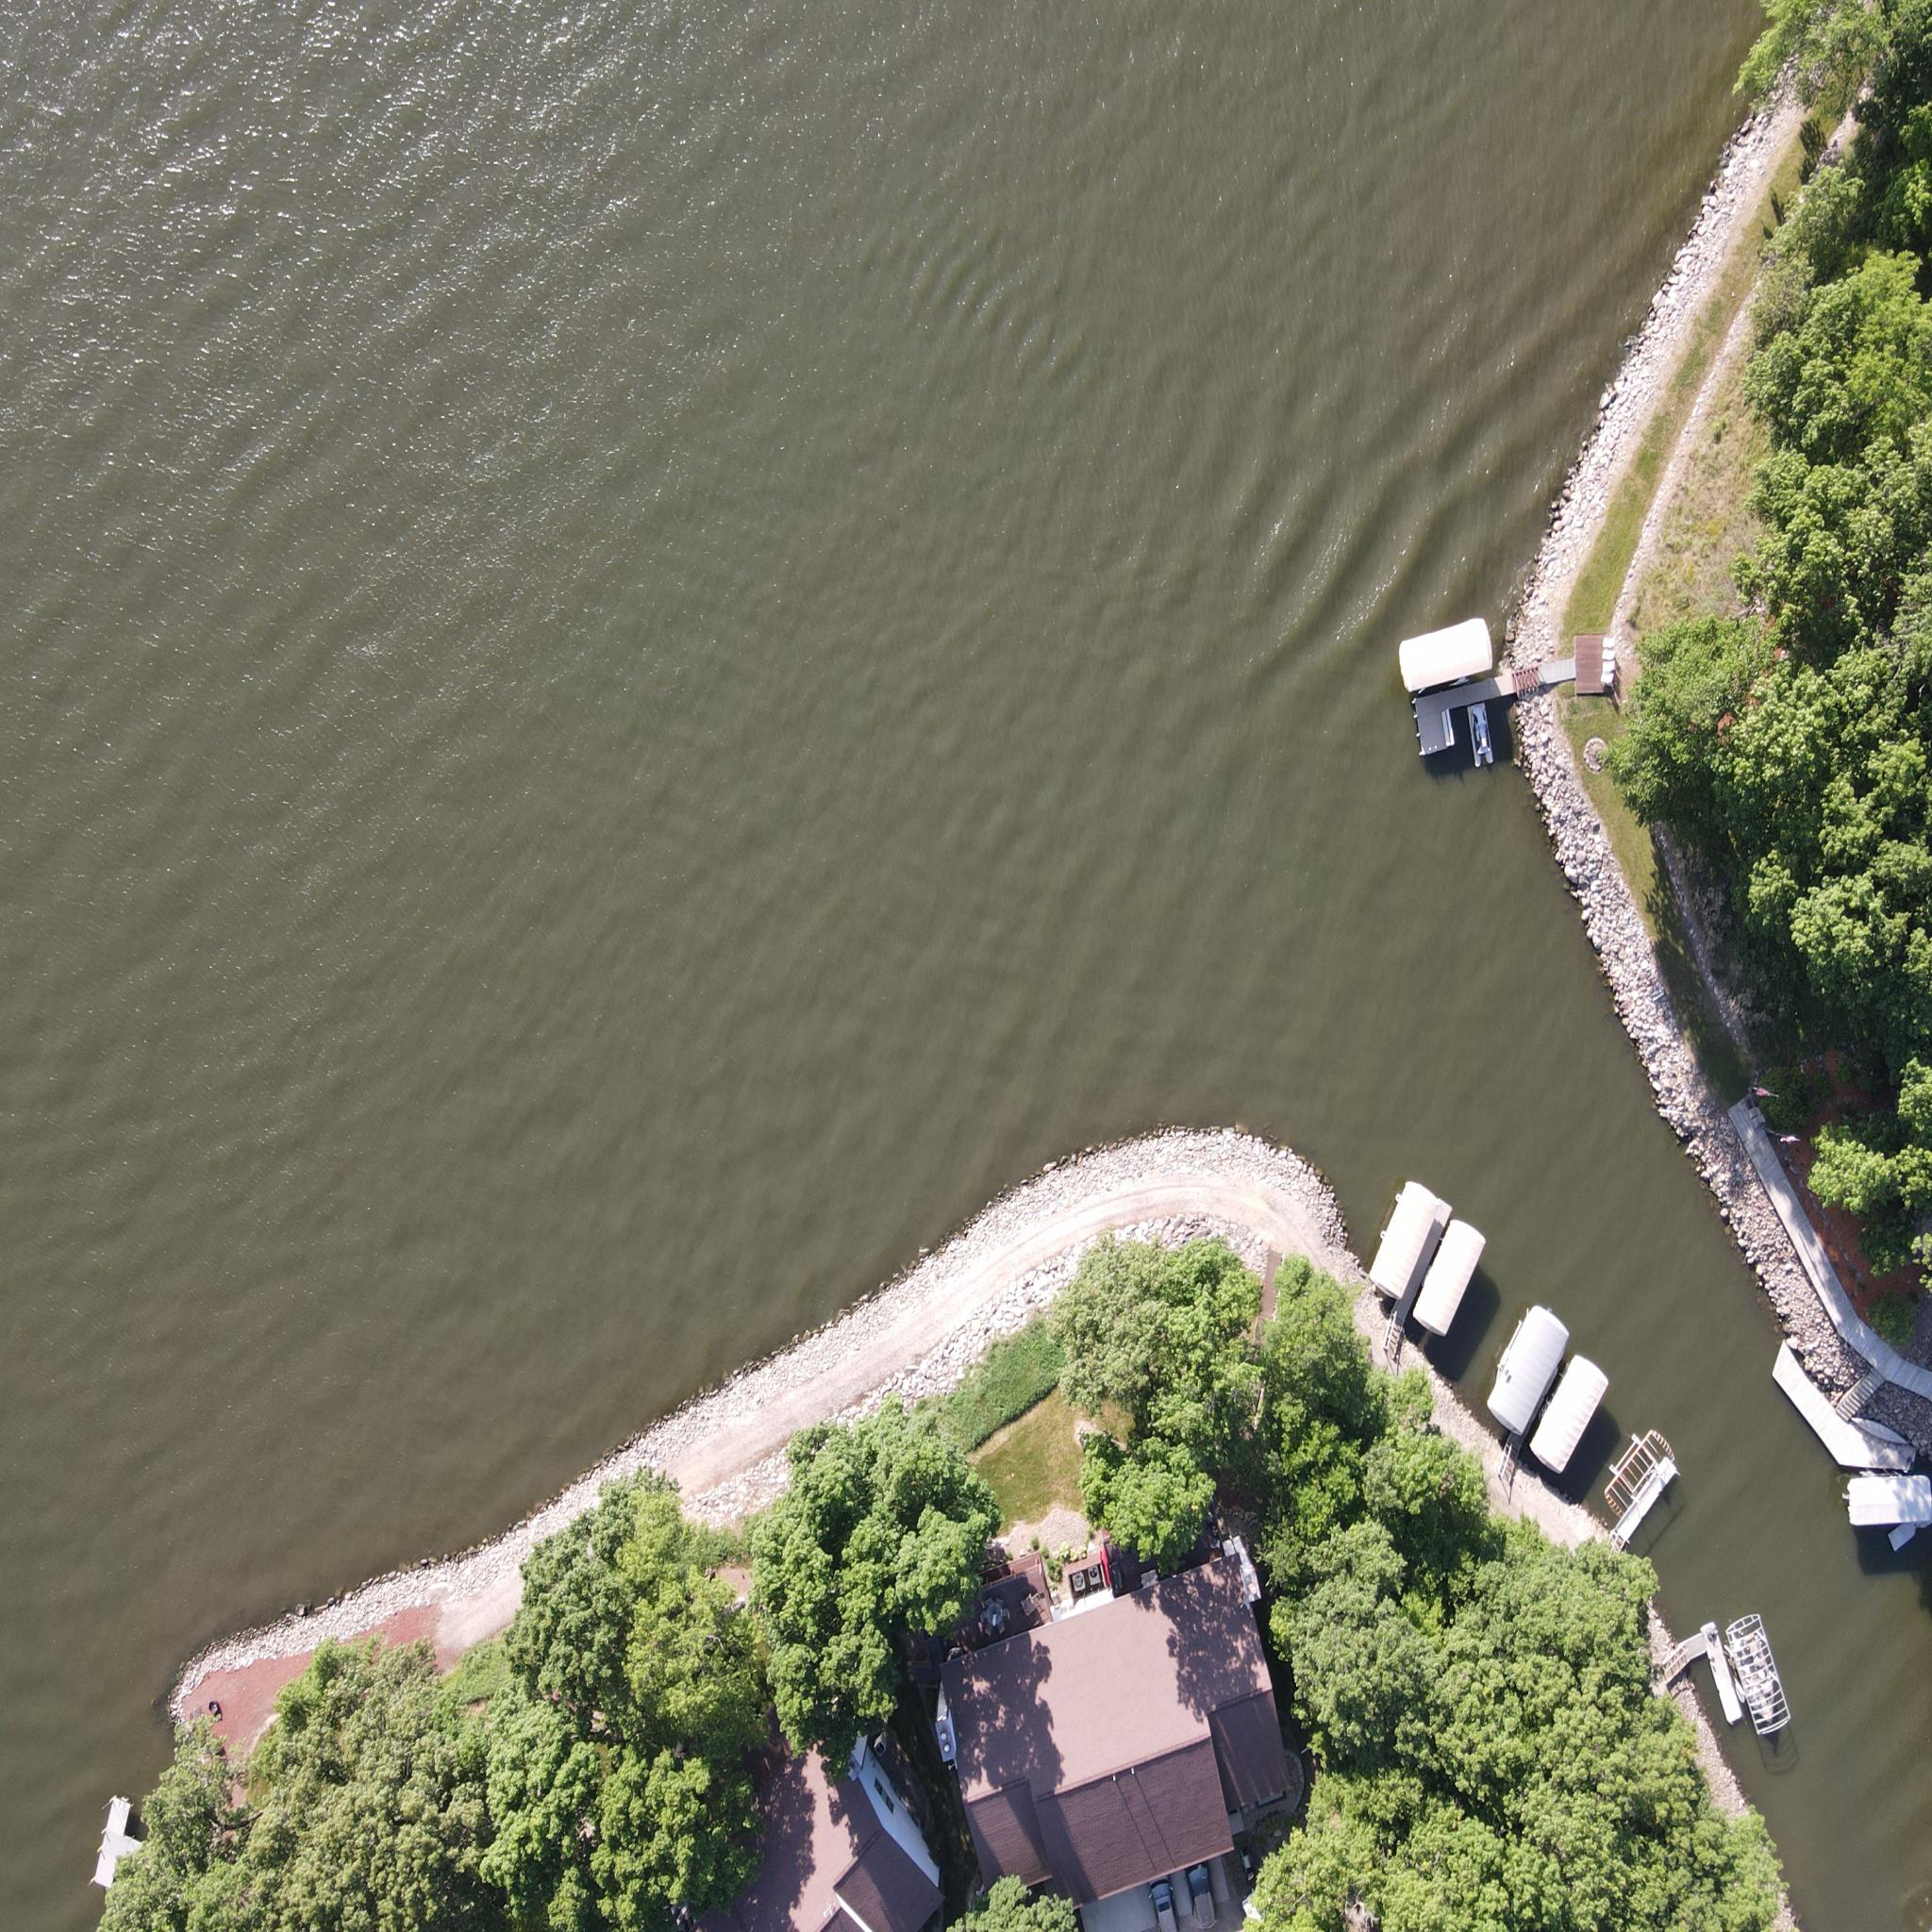dock: (1408, 653, 1594, 777), (1771, 1327, 1920, 1474), (1665, 1612, 1743, 1739), (1391, 1187, 1449, 1346), (90, 1790, 161, 1904), (1614, 1447, 1684, 1557), (1396, 617, 1502, 688), (1514, 1325, 1560, 1488)
jetski: (1465, 697, 1497, 770)
lift: (1493, 1288, 1575, 1433), (1721, 1596, 1792, 1762), (1530, 1345, 1612, 1484), (1373, 1159, 1447, 1293), (1424, 1217, 1495, 1334), (1612, 1421, 1675, 1522), (1845, 1476, 1932, 1534)
